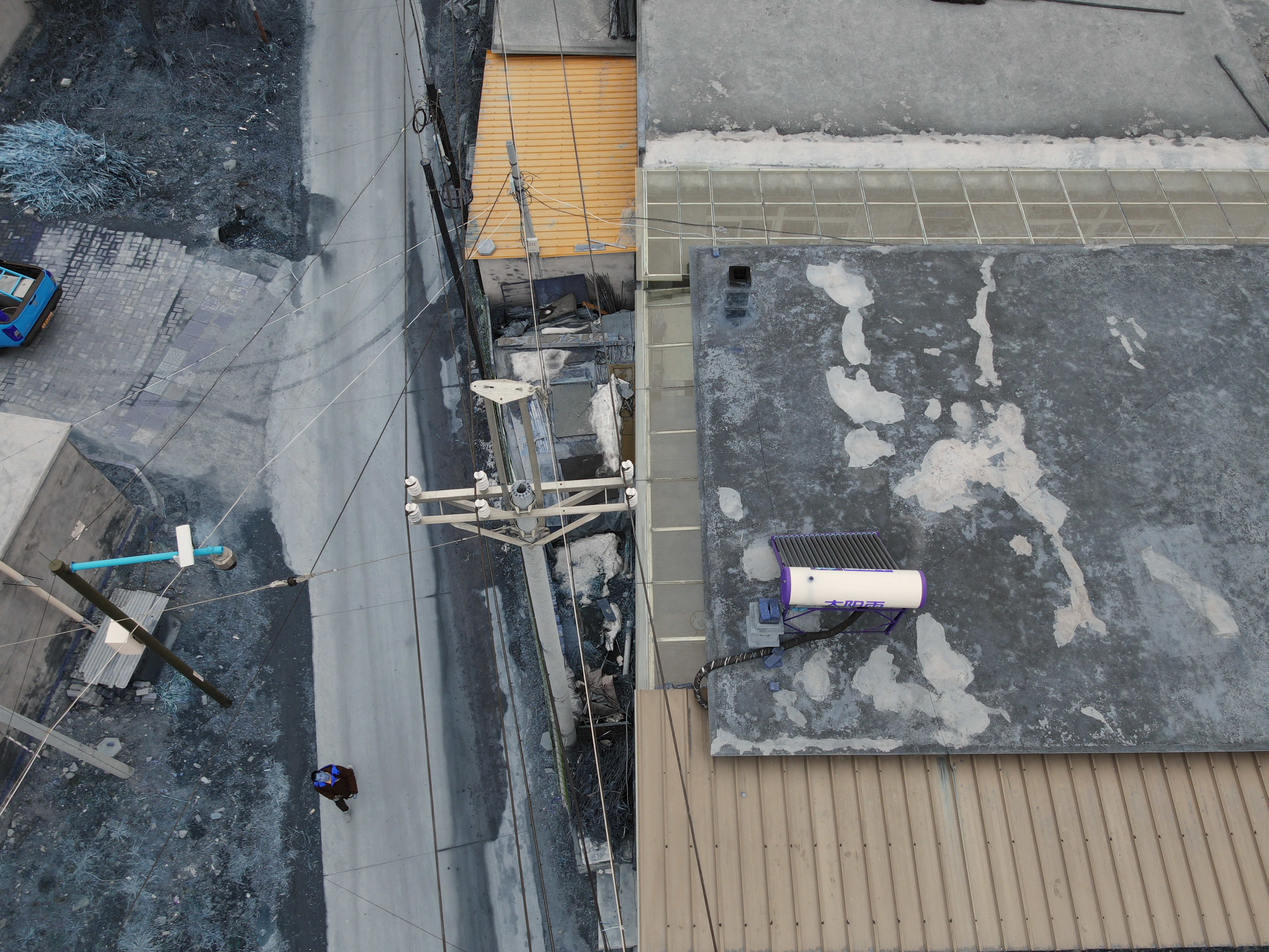severe_soiling_no_discharge_whole: (402, 501, 423, 525)
